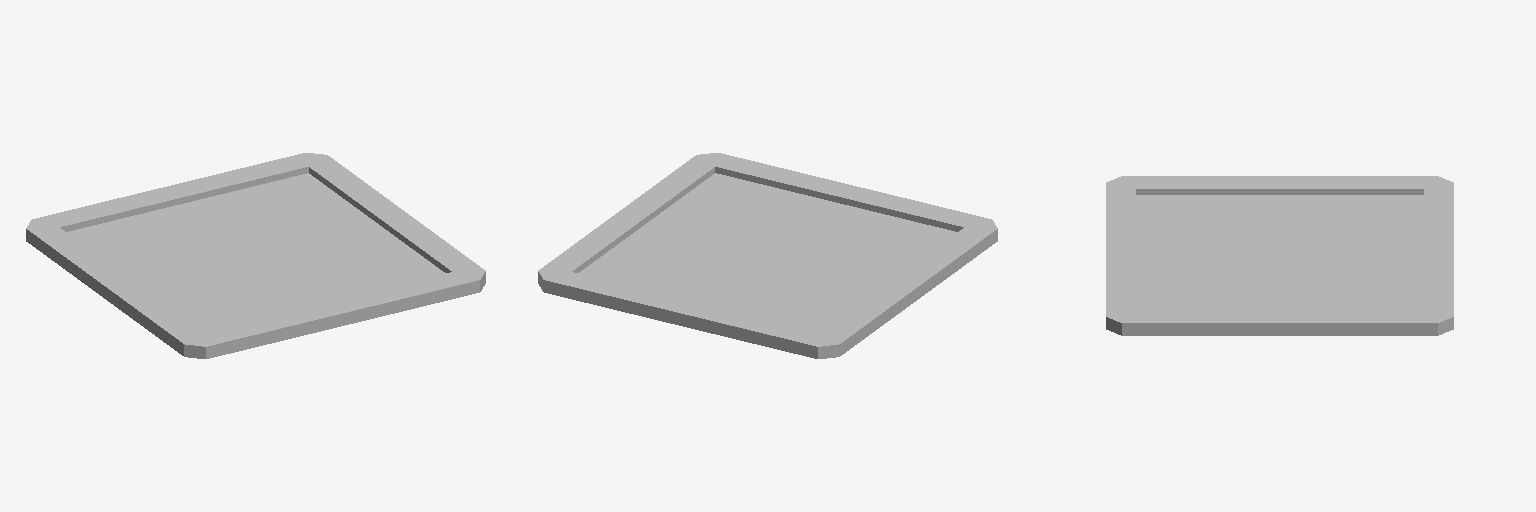
Rendered from metalTileLarge.obj.
3 views of the same model, side by side, from view 1: azimuth 30°, elevation 25°; view 2: azimuth 150°, elevation 25°; view 3: azimuth 270°, elevation 25° (orthographic).
Parts seen in each view (by area): view 1: metalTileLarge; view 2: metalTileLarge; view 3: metalTileLarge.
Part boxes in pixels (bbox=[...]): metalTileLarge: bbox=[26, 153, 485, 358]; metalTileLarge: bbox=[538, 153, 997, 358]; metalTileLarge: bbox=[1106, 176, 1453, 335].
Size of the model in its own units: 20 by 0.8 by 20.